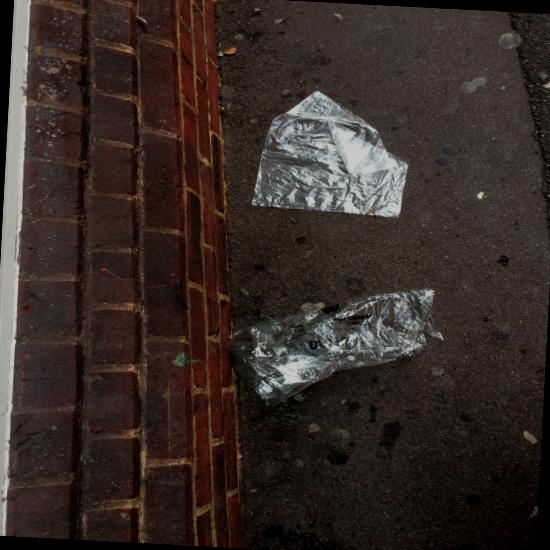Plastic film: (225, 289, 443, 407), (252, 91, 408, 219)
